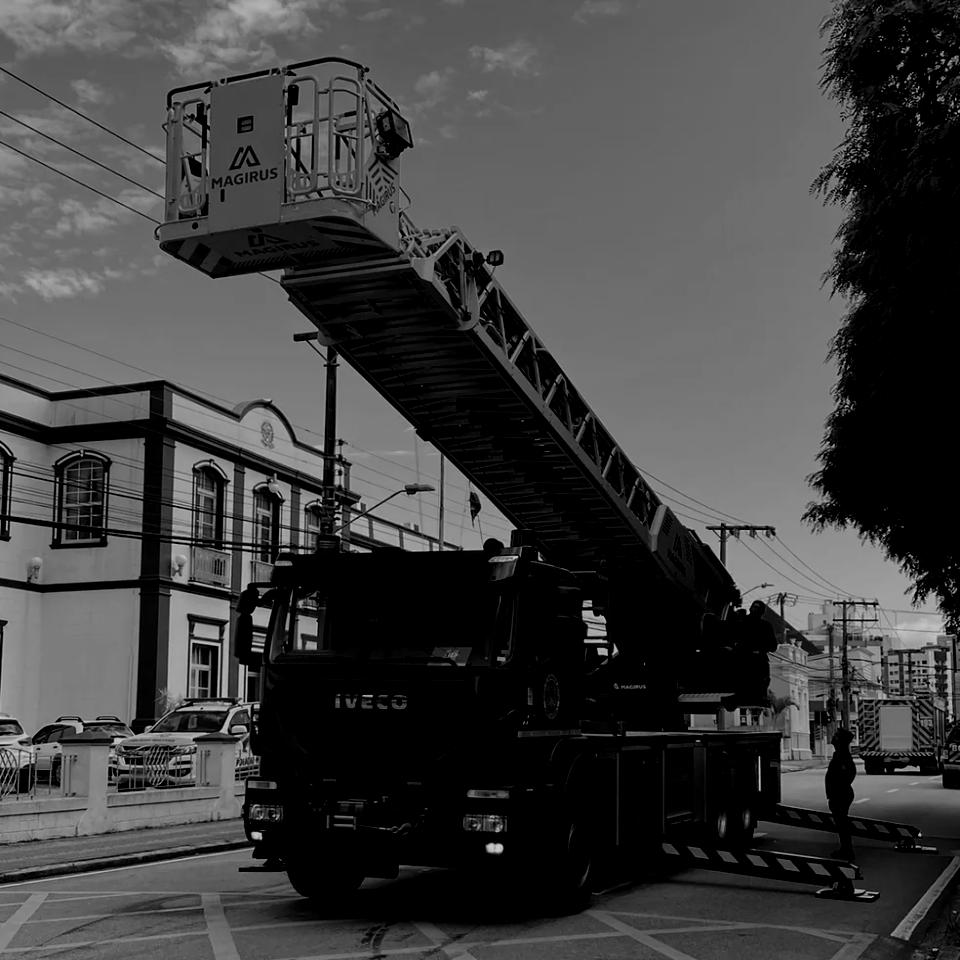bombeiro: (146, 50, 782, 913)
